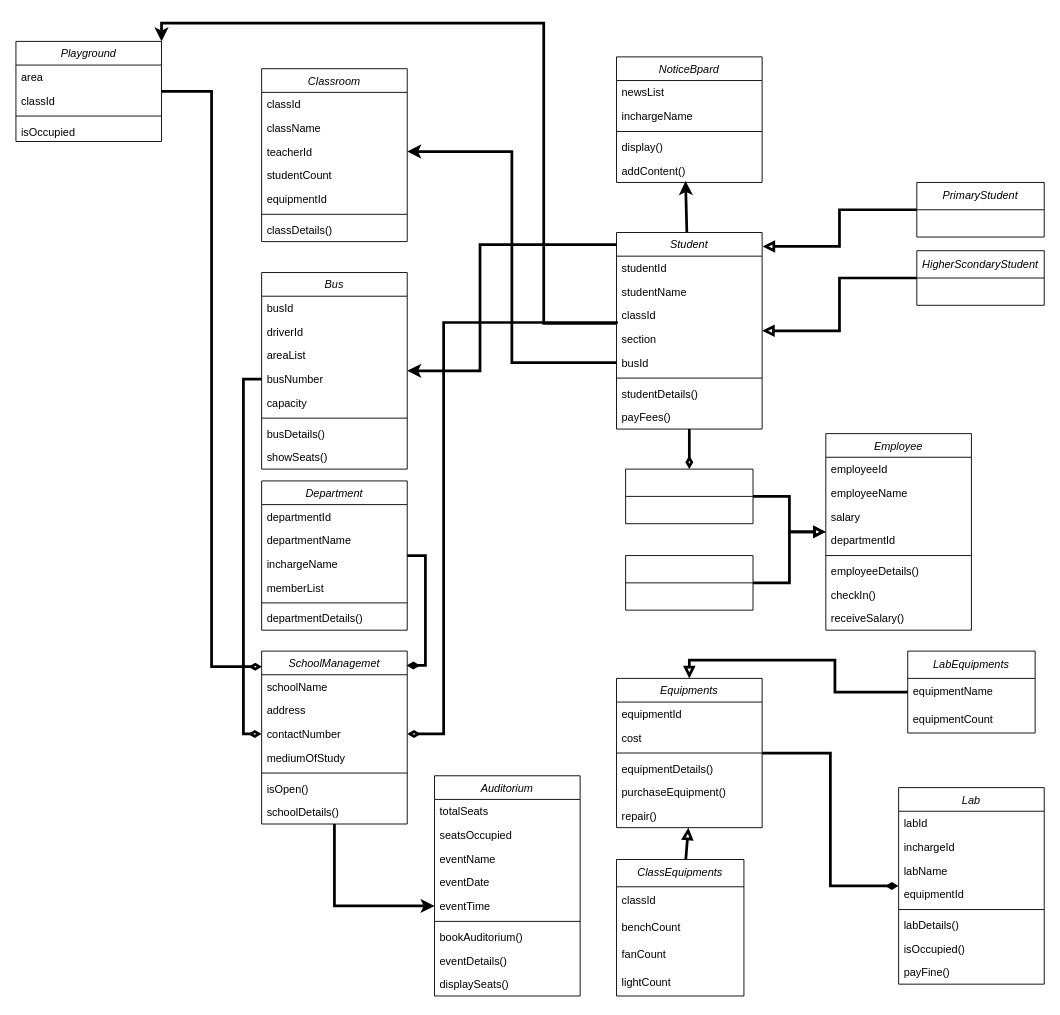
Some shapes in this 1060 by 1015 pixel diagram are drawn without their labels. Here are the shapes that lost their labels. From the top down, the centre of each, then its label:
the point at 689,496: Teacher
the point at 689,582: SupportStaff
